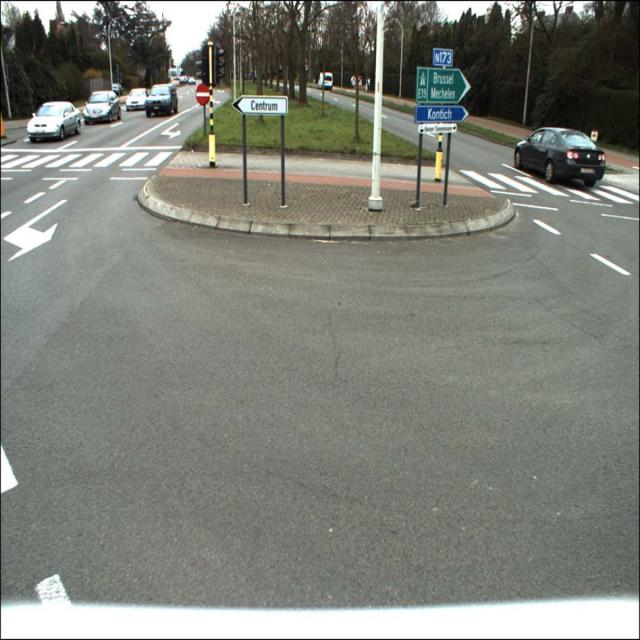girisyok: (196, 84, 211, 107)
